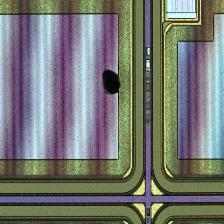PARTICLE: (99, 69, 127, 97)
